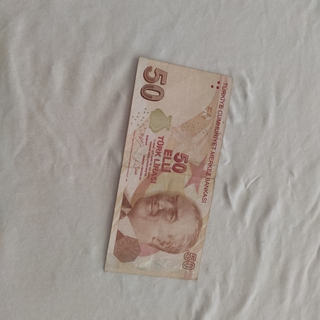50TLFront: (103, 56, 233, 281)
